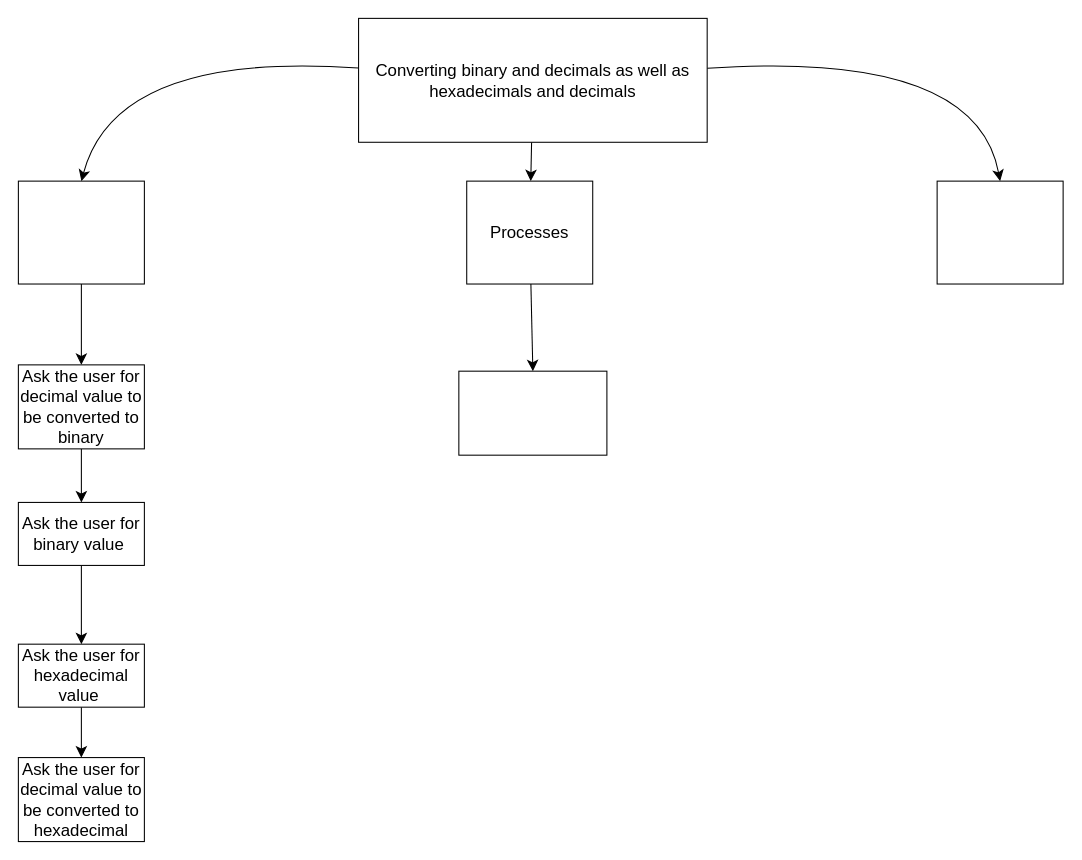
Some shapes in this 1082 by 860 pixel diagram are drawn without their labels. The centre of each missing label's shape, as x and y in pixels:
"Call decimalToBinary()" goes at (x=532, y=412).
"Inputs" goes at (x=80, y=232).
"Outputs" goes at (x=999, y=232).
